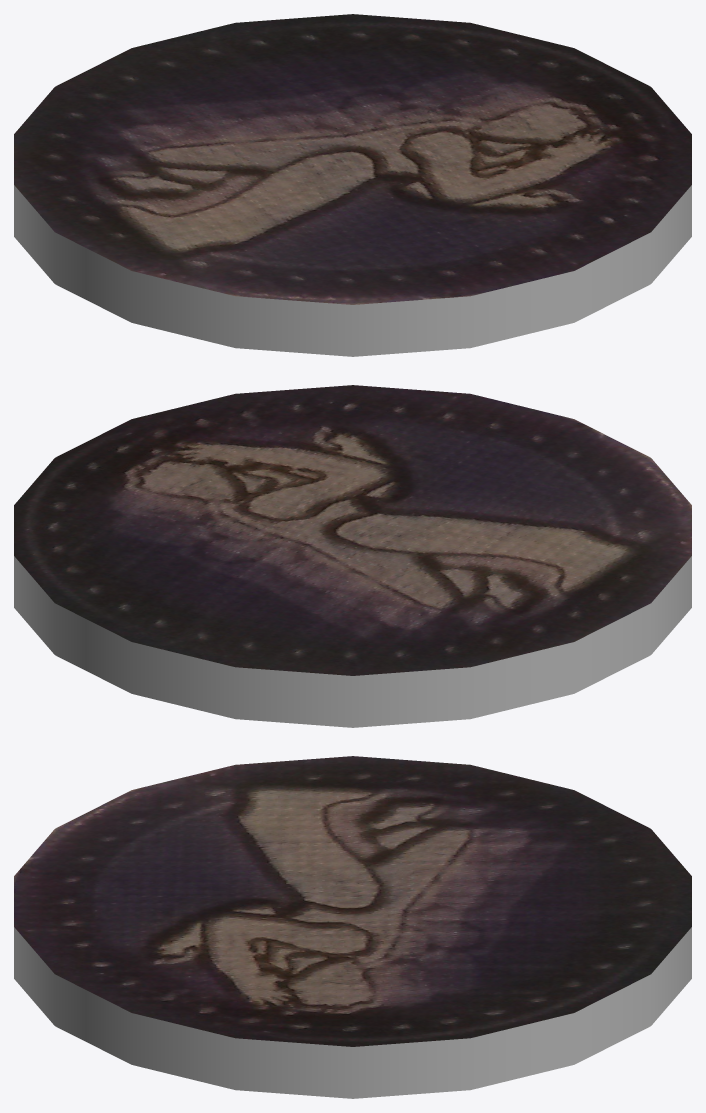
Rendered from Evading.FBX.
3 renders of one model, top to bottom at view 1: azimuth 30°, elevation 25°; view 2: azimuth 150°, elevation 25°; view 3: azimuth 270°, elevation 25°, orthographic.
Parts seen in each view (by area): view 1: Object001, Cylinder001; view 2: Object001, Cylinder001; view 3: Object001, Cylinder001.
Boxes of the visible parts, bbox=[...] form: Object001: bbox=[14, 14, 691, 304]; Cylinder001: bbox=[14, 185, 691, 356]; Object001: bbox=[14, 385, 691, 675]; Cylinder001: bbox=[14, 556, 691, 727]; Object001: bbox=[14, 756, 691, 1046]; Cylinder001: bbox=[14, 927, 691, 1098].
Size of the model in its own units: 48.09 by 4 by 47.36.
